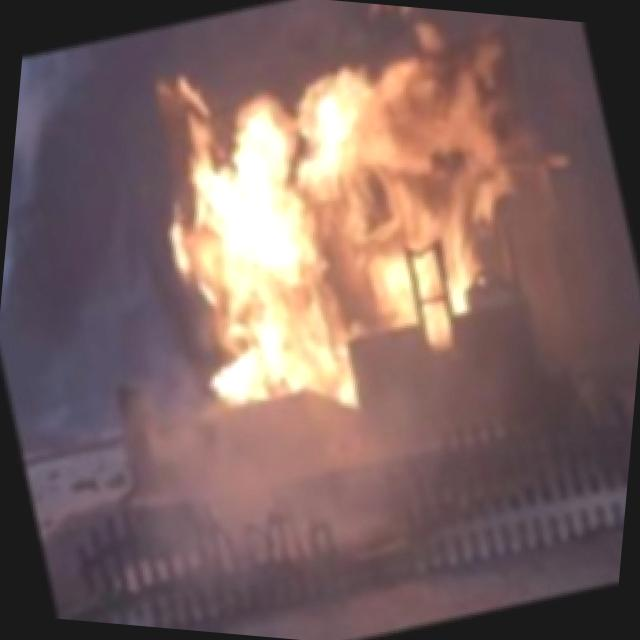fire: (83, 0, 588, 460)
